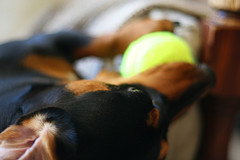tennis ball: (119, 29, 197, 79)
